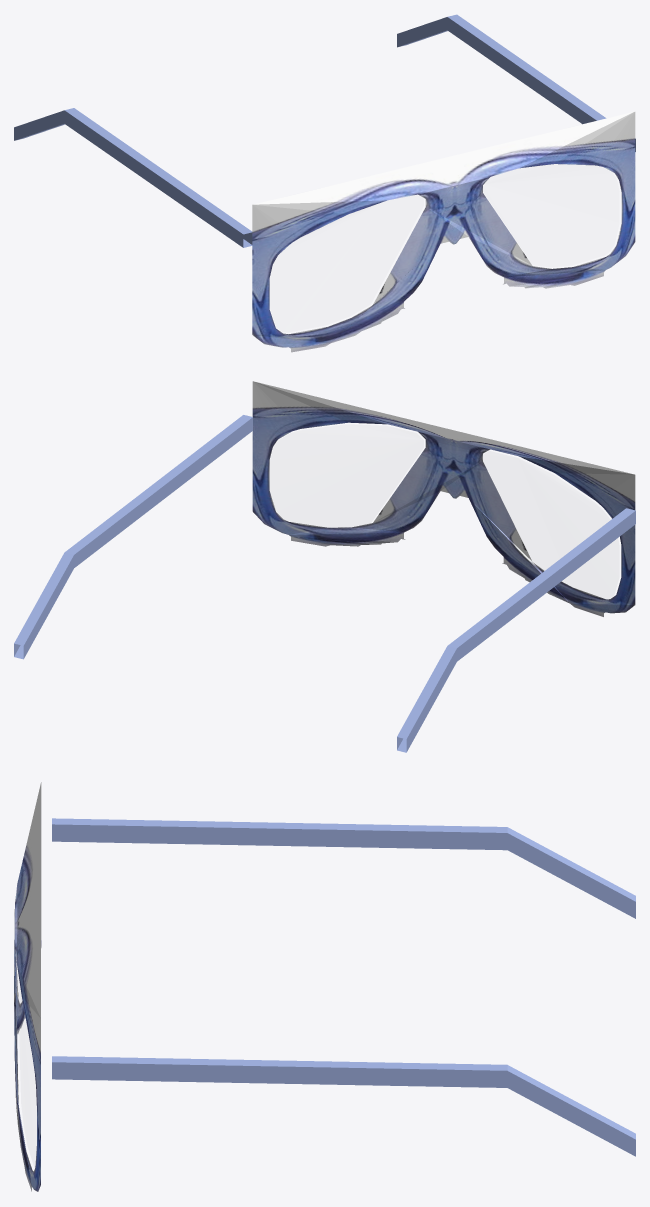
The model's file is gothamstyle-197_blue.glb.
3 renders of one model, top to bottom at view 1: azimuth 30°, elevation 25°; view 2: azimuth 150°, elevation 25°; view 3: azimuth 270°, elevation 25°, orthographic. The views are drawn at different scales.
Visible parts, largest first — view 1: frame_front, temple_viewer_left, temple_viewer_right; view 2: frame_front, temple_viewer_left, temple_viewer_right; view 3: temple_viewer_right, temple_viewer_left, frame_front.
Boxes of the visible parts, box(x1,y1,x2,y2) form: frame_front: box(252, 111, 635, 352); temple_viewer_left: box(14, 108, 252, 247); temple_viewer_right: box(397, 14, 635, 152); frame_front: box(252, 381, 635, 616); temple_viewer_left: box(397, 508, 635, 752); temple_viewer_right: box(14, 415, 252, 659); temple_viewer_right: box(52, 1056, 635, 1156); temple_viewer_left: box(52, 818, 635, 918); frame_front: box(14, 782, 41, 1191).
Size of the model in its own units: 0.1215 by 0.0455 by 0.131.
3 materials, 2 textured.
